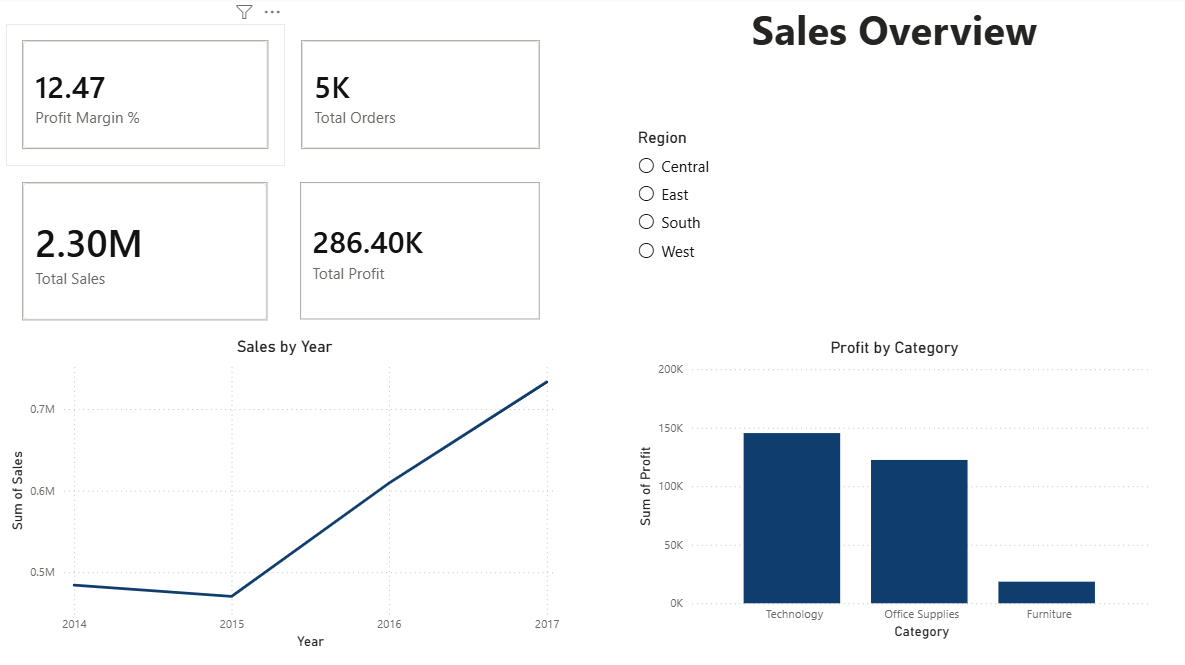

This screenshot's page, from the dashboard's own definition file:
{"tool":"powerbi","page":{"name":"Page 1","canvas":[1280,720],"ordinal":0},"visuals":[{"type":"cardVisual","fields":{"Data":["Sum(Sample - Superstore.Sales)"]},"box":[9.5,178.4,293.5,180.5],"z":0},{"type":"cardVisual","fields":{"Data":["Sum(Sample - Superstore.Profit)"]},"box":[303,178.4,287.2,179.5],"z":1000},{"type":"clusteredColumnChart","title":"Profit by Category","fields":{"Category":["Sample - Superstore.Category"],"Y":["Sum(Sample - Superstore.Profit)"]},"box":[671.4,360,552.1,323],"z":2000},{"type":"lineChart","title":" Sales by Year","fields":{"Category":["Sample - Superstore.Order Date.Variation.Date Hierarchy.Year","Sample - Superstore.Order Date.Variation.Date Hierarchy.Quarter","Sample - Superstore.Order Date.Variation.Date Hierarchy.Month","Sample - Superstore.Order Date.Variation.Date Hierarchy.Day"],"Y":["Sum(Sample - Superstore.Sales)"]},"box":[8.9,358.9,590,334.4],"z":3000},{"type":"listSlicer","fields":{"Values":["Sample - Superstore.Region"]},"box":[671.4,138.3,552.1,211.1],"z":4000},{"type":"textbox","box":[728.4,0,438.1,123.5],"z":5000},{"type":"cardVisual","fields":{"Data":["Sample - Superstore.Profit Margin %"]},"box":[9.5,28.5,294.5,149.9],"z":6000},{"type":"cardVisual","fields":{"Data":["Sample - Superstore.Total Orders"]},"box":[304,28.5,286.1,149.9],"z":7000}]}

Visuals, with their boxes in screenshot pixels (x1, y1, x2, y2), scaled from the page's 1280x720 canvas onto the 1185x665 screenshot:
cardVisual - Sum(Sample - Superstore.Sales): region(9, 165, 281, 331)
cardVisual - Sum(Sample - Superstore.Profit): region(281, 165, 546, 331)
"Profit by Category" clusteredColumnChart: region(622, 332, 1133, 631)
" Sales by Year" lineChart: region(8, 331, 554, 640)
listSlicer - Sample - Superstore.Region: region(622, 128, 1133, 323)
textbox: region(674, 0, 1080, 114)
cardVisual - Sample - Superstore.Profit Margin %: region(9, 26, 281, 165)
cardVisual - Sample - Superstore.Total Orders: region(281, 26, 546, 165)
